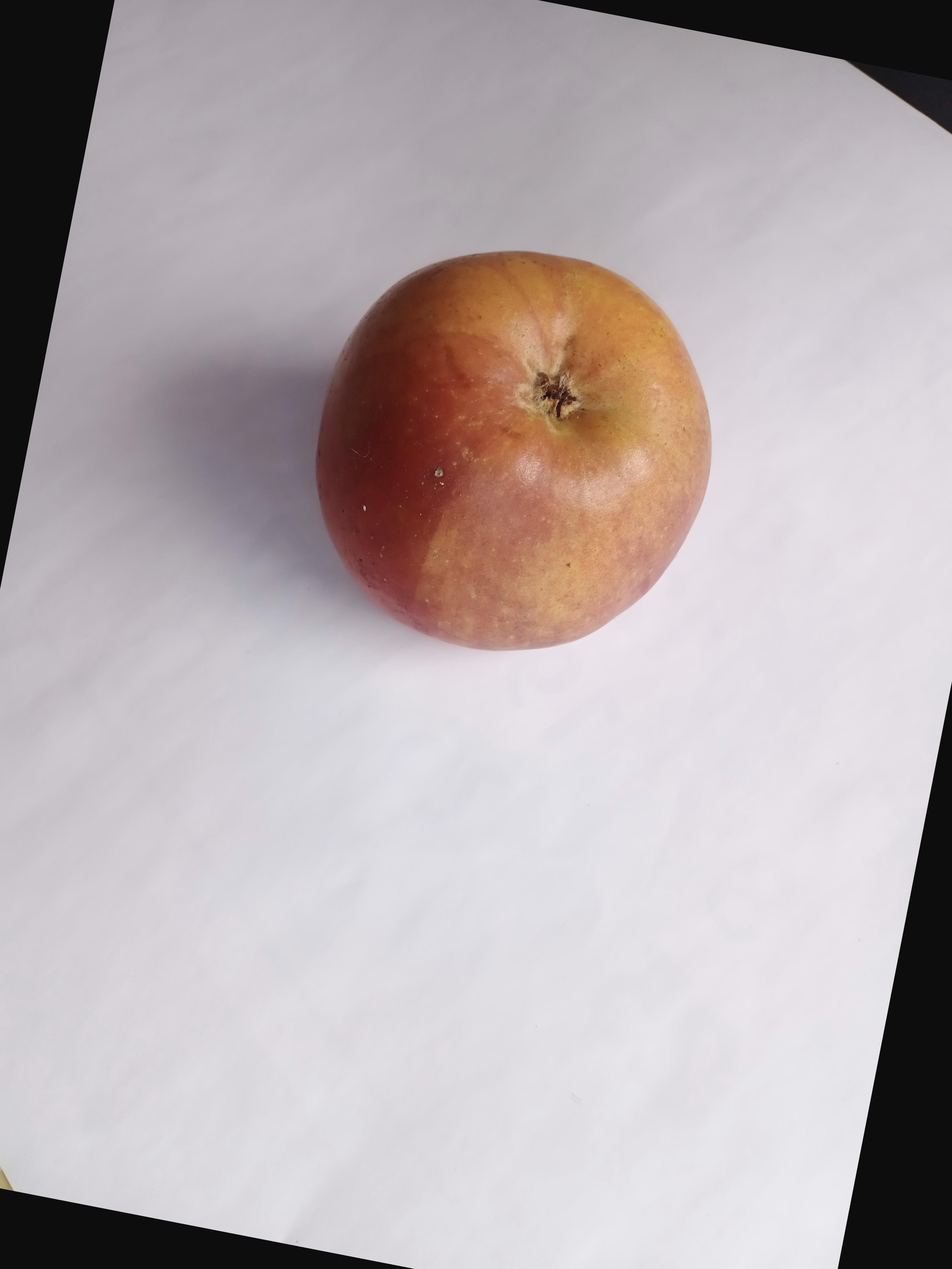Apple Ripe: (421, 84, 916, 625)
